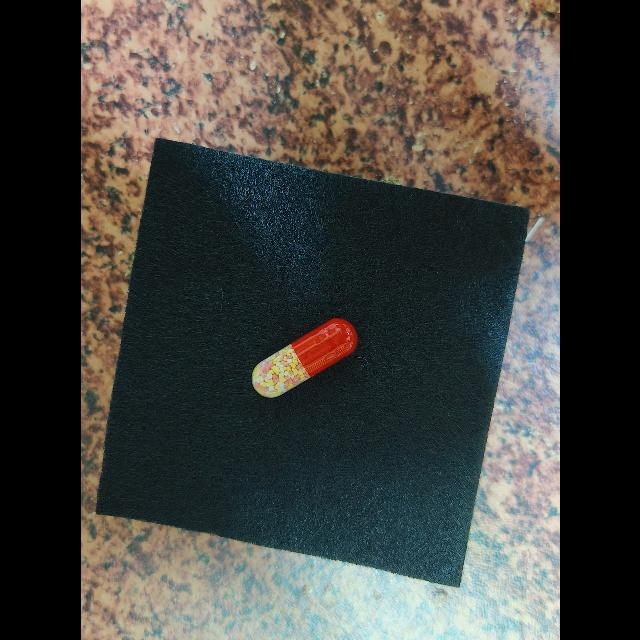Intact Capsule: (251, 318, 357, 398)
